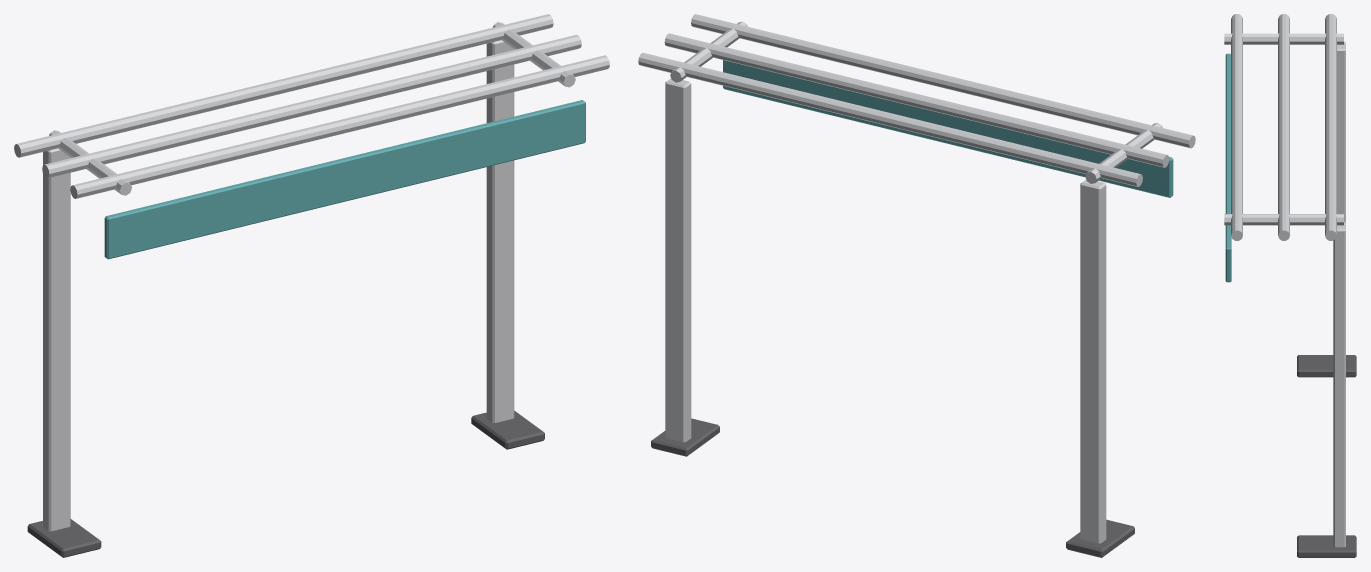
The model's file is fast-food-and-drive-thru-tray-slide-rail-a3022c89__16106.glb.
The picture shows the model from 3 angles, left to right: view 1: azimuth 30°, elevation 25°; view 2: azimuth 150°, elevation 25°; view 3: azimuth 270°, elevation 25°; orthographic projection. The views are drawn at different scales.
Parts seen in each view (by area): view 1: tray-slide-rail; view 2: tray-slide-rail; view 3: tray-slide-rail.
Boxes of the visible parts, <box> form: tray-slide-rail: <box>14,14,609,557</box>; tray-slide-rail: <box>638,14,1195,557</box>; tray-slide-rail: <box>1224,14,1356,557</box>.
Bounding box in the file's own units: 1.2 × 0.8733 × 0.31.
